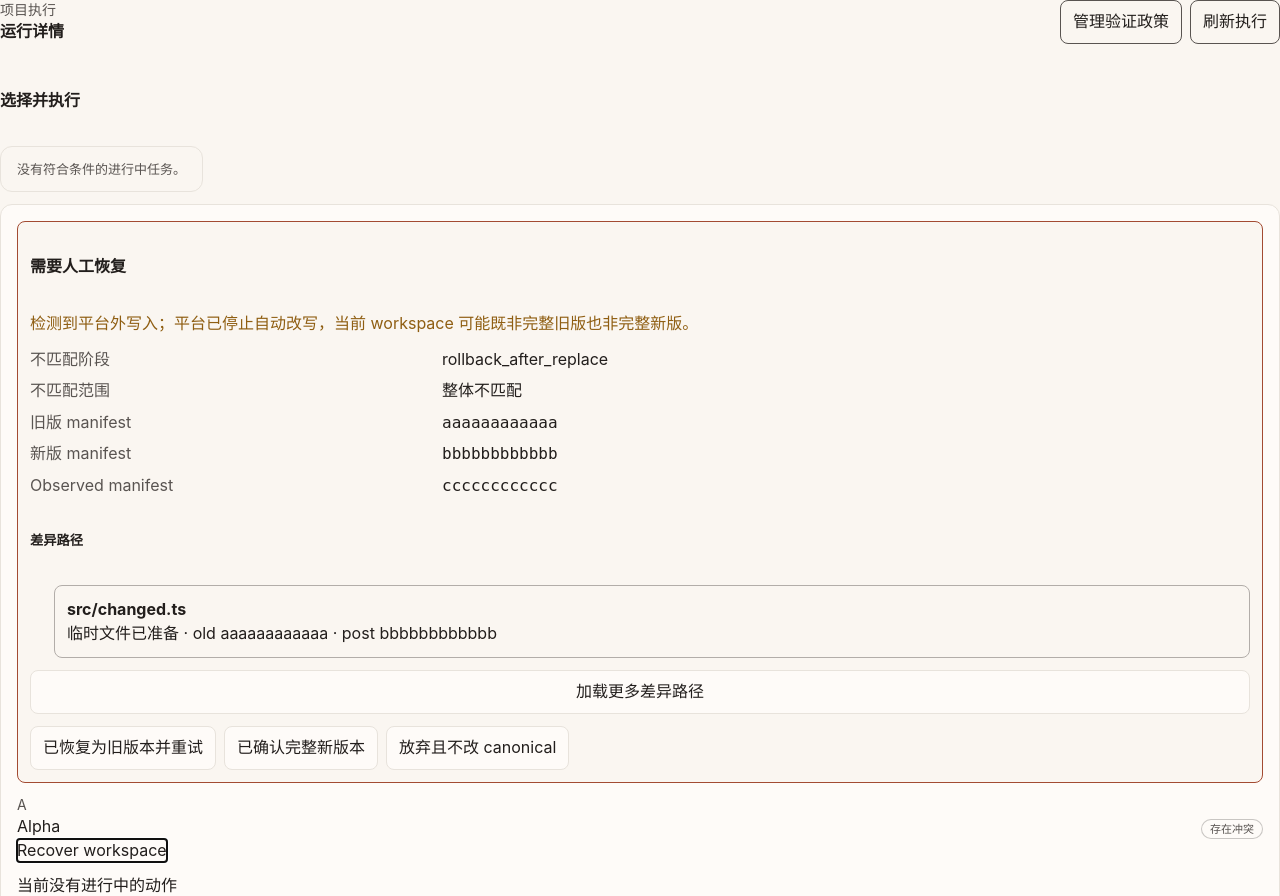
Test: T-30 manual recovery UI › submits exact abandon only after second confirmation and restores focus to its outcome
Click the button "放弃且不改 canonical" at (478, 748), box [386,726,569,770]
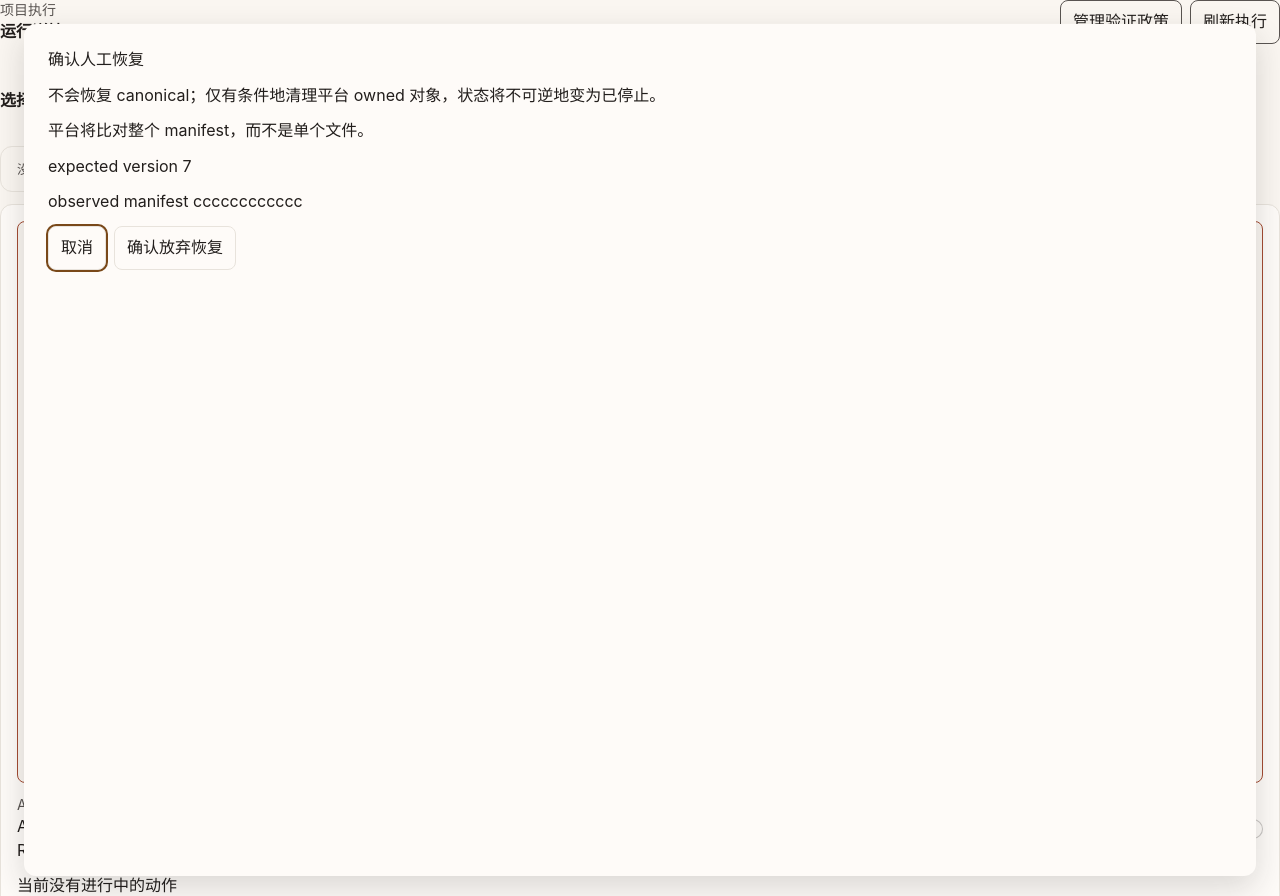
Check: the dialog "确认人工恢复" shows "整个 manifest", box [48,120,373,140]
Check: the dialog "确认人工恢复" shows "expected version 7"
Click the button "确认放弃恢复" at (175, 248), box [114,226,236,270]
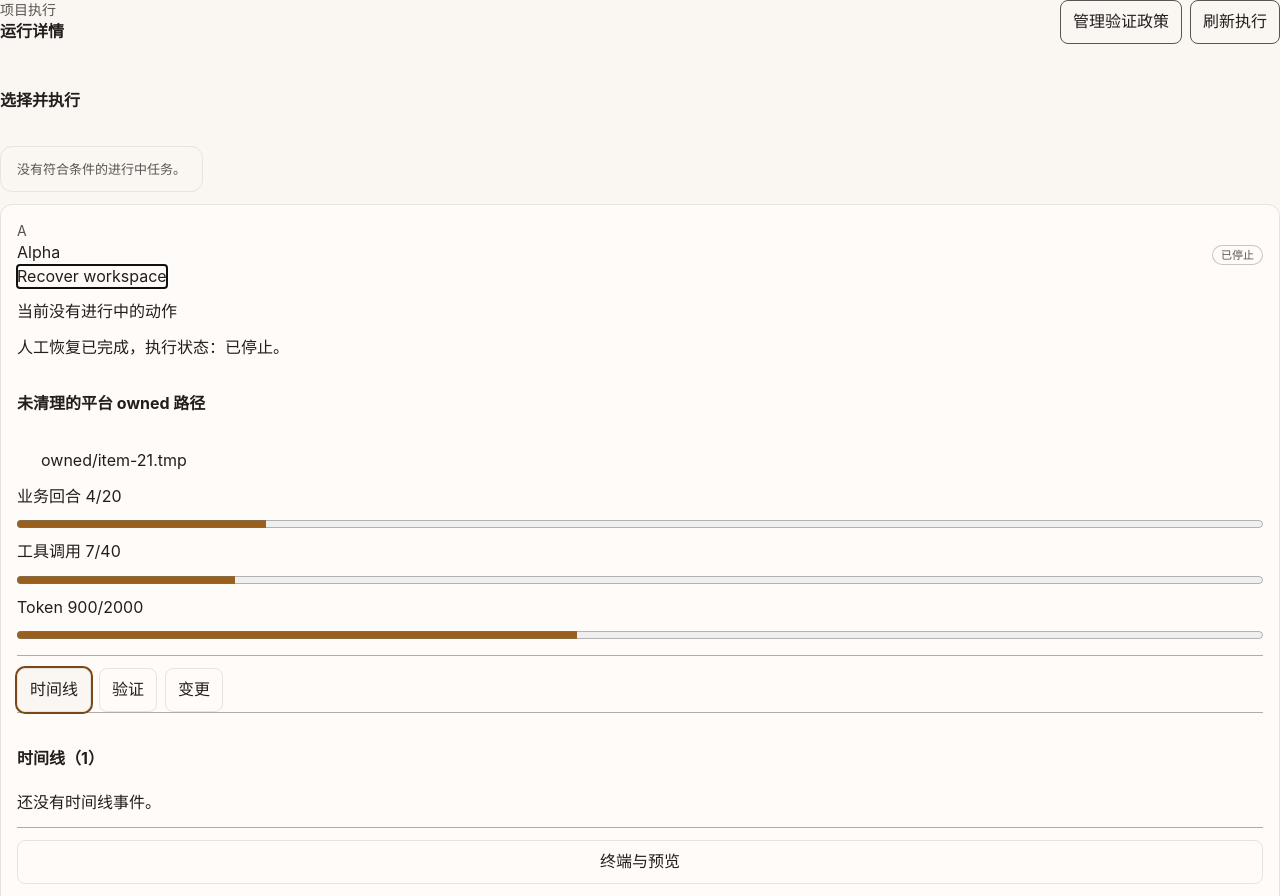
Check: the list item "owned/item-21.tmp" is shown, box [41,450,187,470]
